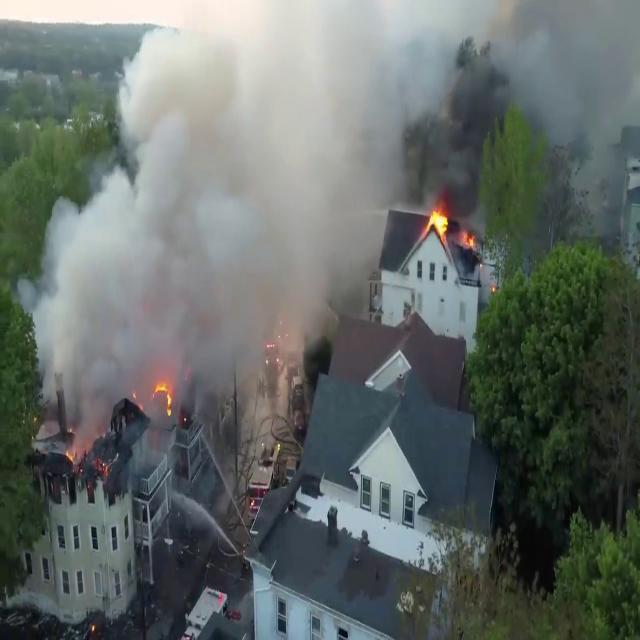Fire: (424, 198, 452, 244), (152, 371, 175, 418)
Smoke: (24, 0, 508, 429), (412, 1, 640, 204)
